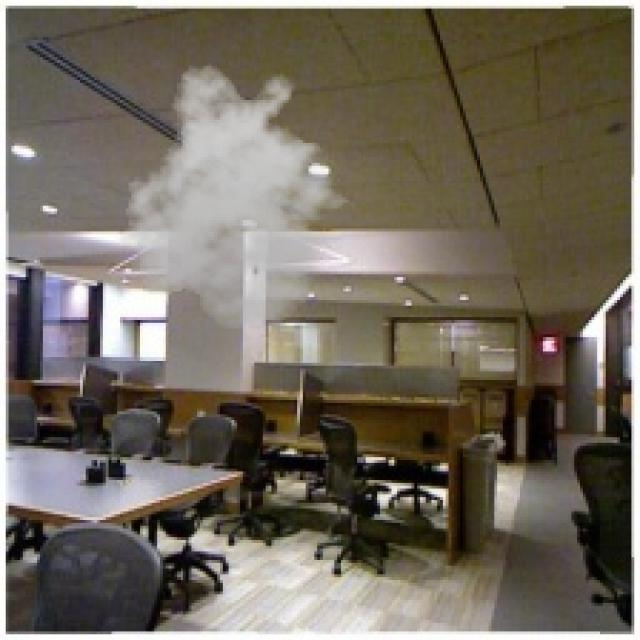smoke: (111, 63, 360, 331)
